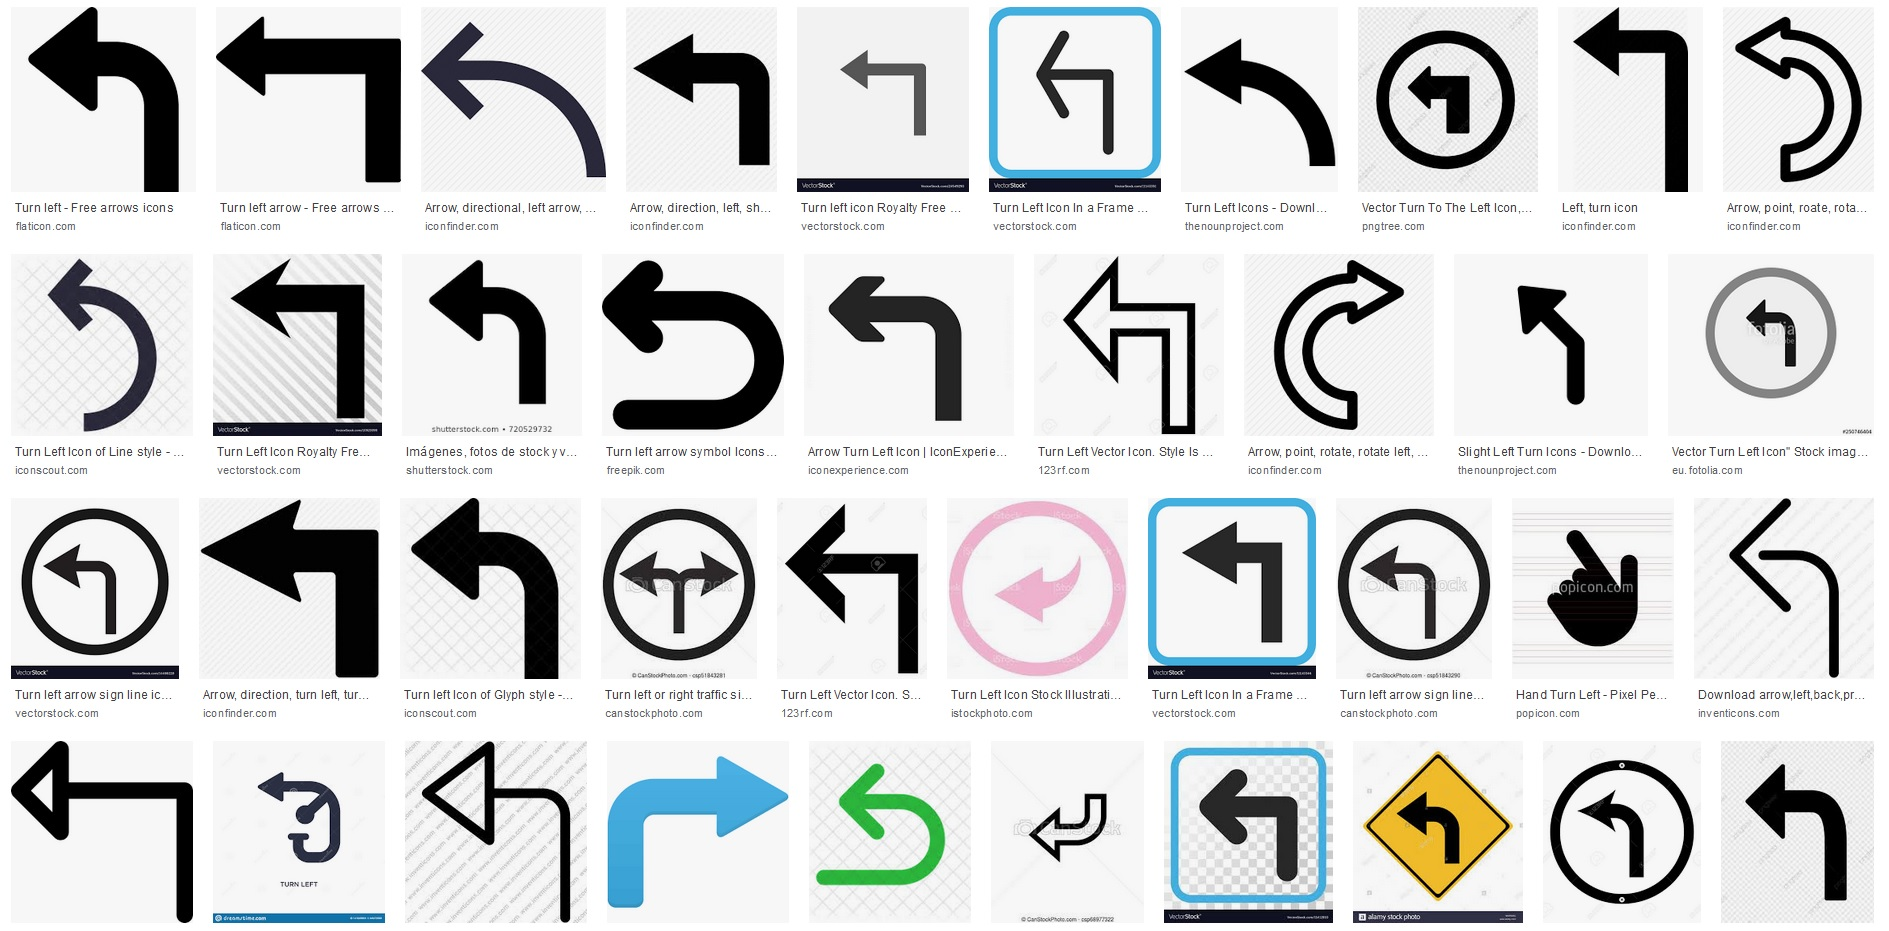turn_left: (6, 736, 199, 926), (195, 493, 383, 682), (213, 14, 405, 188), (598, 258, 785, 432), (419, 20, 610, 183), (24, 4, 183, 195), (405, 496, 566, 680), (420, 738, 573, 925), (1063, 254, 1199, 438), (784, 503, 926, 676), (1569, 6, 1695, 196), (224, 257, 369, 420), (1726, 496, 1849, 682), (1734, 14, 1866, 183), (826, 271, 969, 426), (1181, 36, 1338, 171), (45, 254, 158, 432), (630, 31, 773, 167), (810, 761, 949, 897), (426, 258, 551, 407), (1742, 758, 1862, 911), (1176, 517, 1294, 654), (1189, 767, 1305, 886), (1030, 28, 1124, 161), (1510, 279, 1601, 411), (832, 46, 932, 142), (1358, 543, 1444, 643), (41, 542, 124, 640), (1575, 789, 1656, 880), (1395, 790, 1470, 871), (1738, 293, 1808, 372), (1403, 64, 1478, 135)
turn_right: (602, 754, 792, 917), (1263, 257, 1408, 434)
